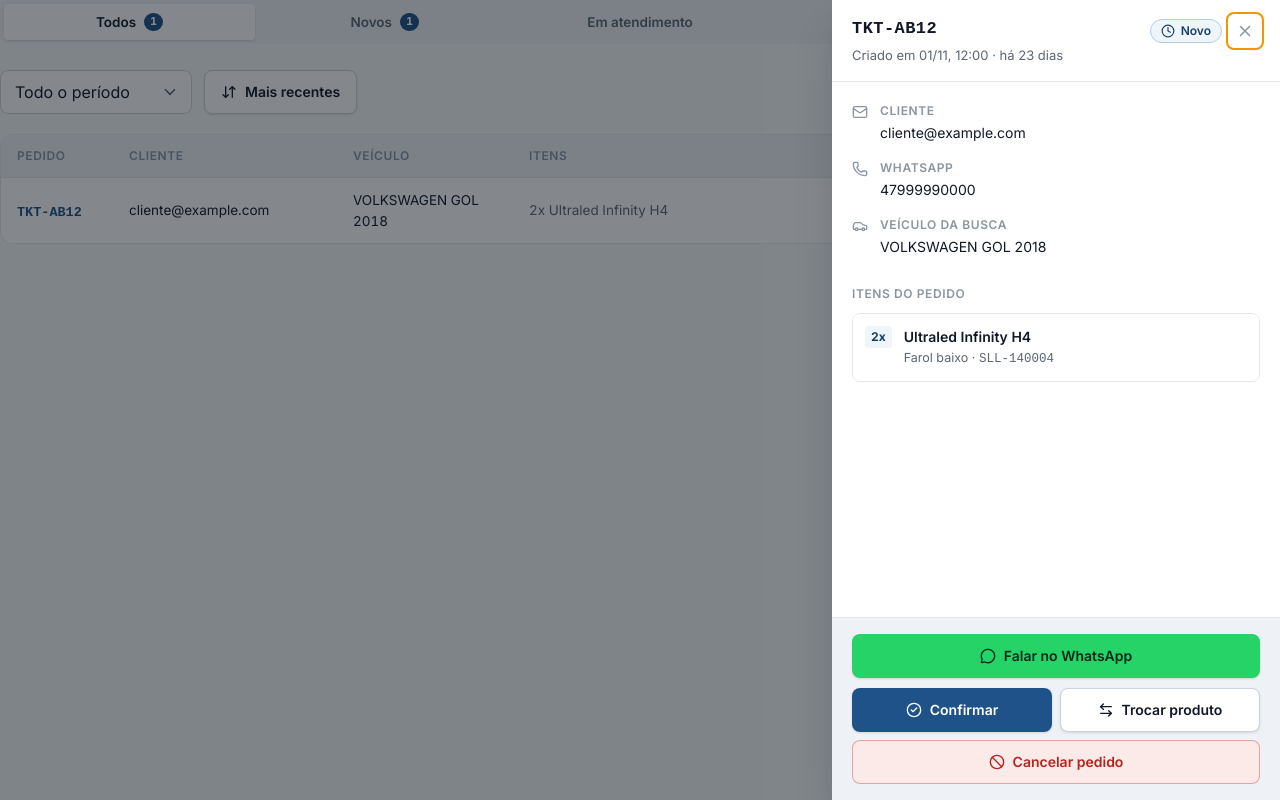
DetalheDoPedido › exige confirmação antes de cancelar
This screenshot has width=1280, height=800.
Expected: the dialog is shown, [832,0,1279,799]
Click the button "Cancelar pedido" at (1056, 762), box [852,740,1260,784]
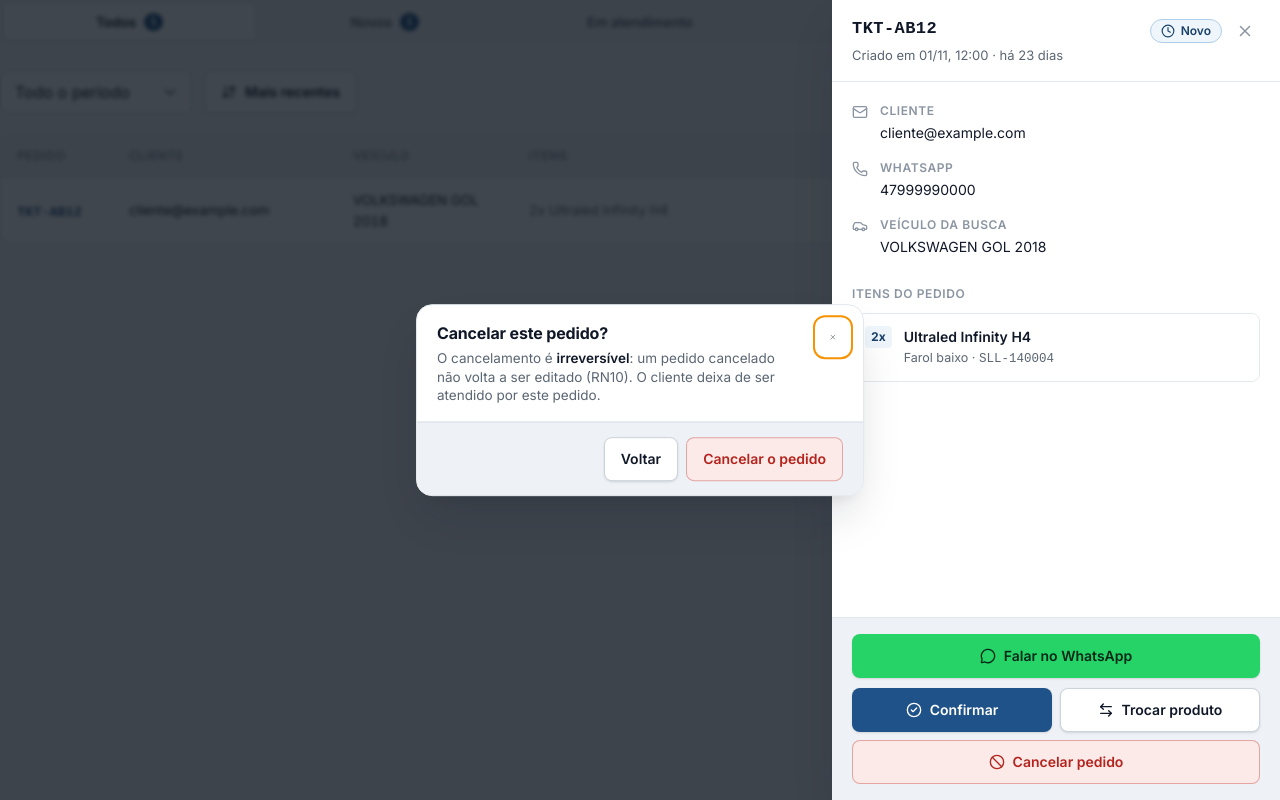
Expected: the heading "Cancelar este pedido?" is shown, [437,323,608,343]
